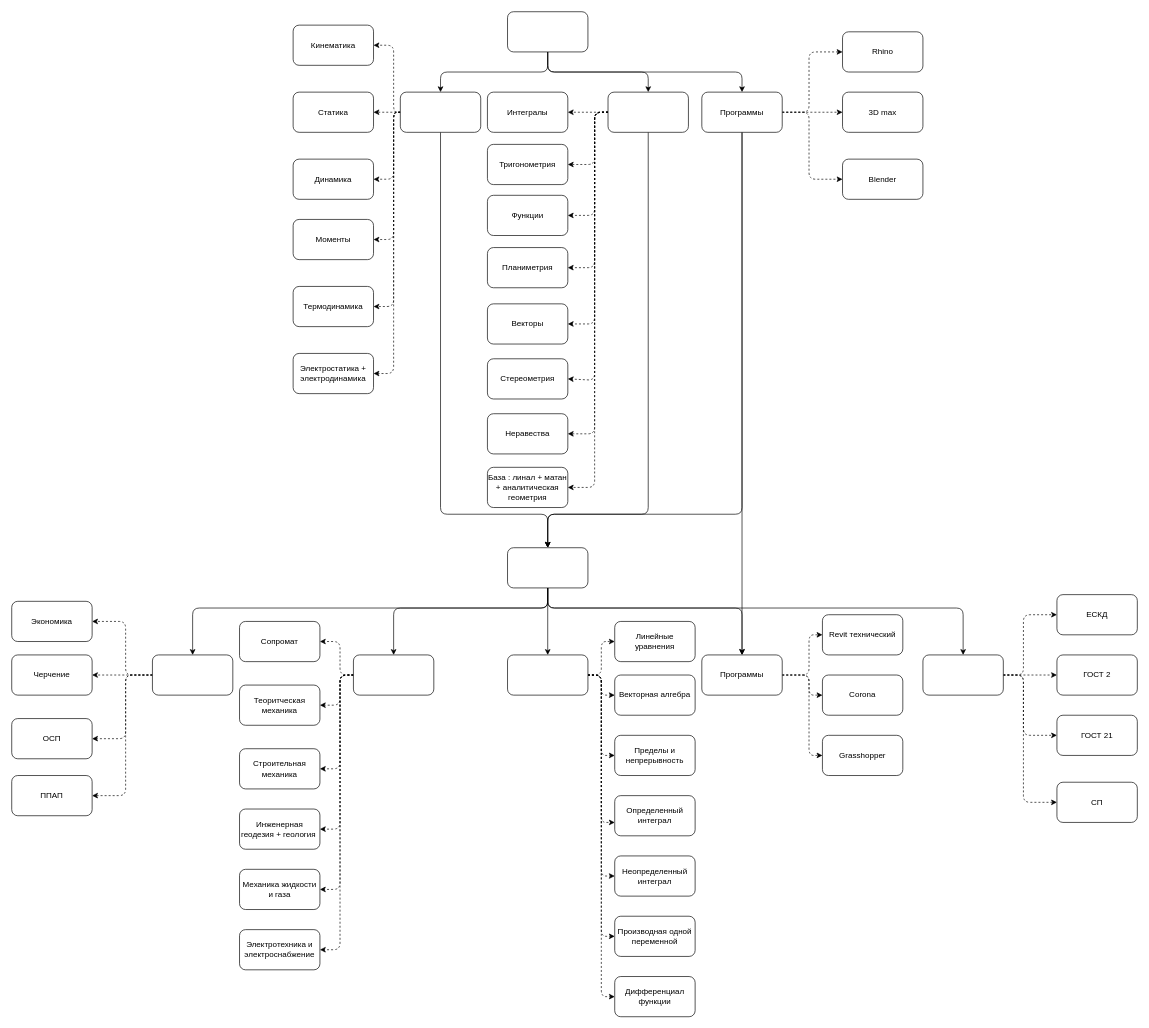
The diagram is 1149 pixels wide and 1028 high, and some of its shapes have lost their labels. The centre of each missing label's shape, as x and y in pixels:
БК: (192,674)
Документция: (962,674)
Инж. математика: (547,674)
Инж. физика: (393,674)
Математика: (647,111)
Прикладная архетектура: (547,567)
Старт: (547,31)
Физика: (440,111)
